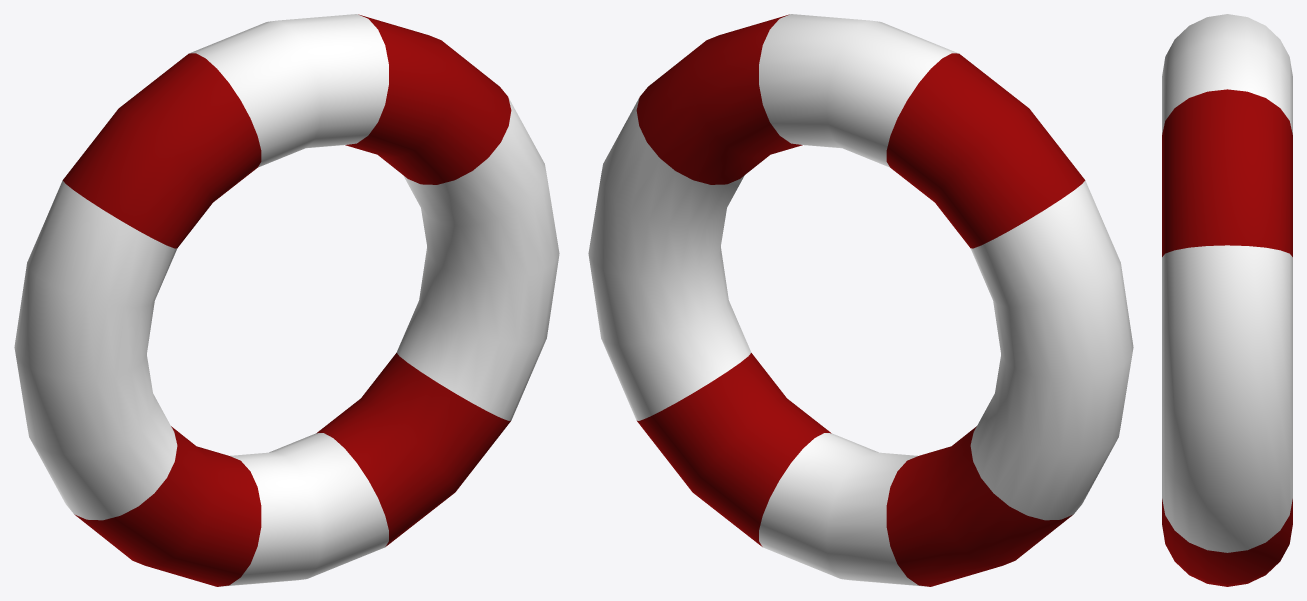
Rendered from TropicalLifePreserver.fbx.
3 renders of one model, left to right at view 1: azimuth 30°, elevation 25°; view 2: azimuth 150°, elevation 25°; view 3: azimuth 270°, elevation 25°, orthographic. The views are drawn at different scales.
Visible parts, largest first — view 1: LifePreserver; view 2: LifePreserver; view 3: LifePreserver.
Boxes of the visible parts, box(x1,y1,x2,y2) form: LifePreserver: box(14, 14, 559, 586); LifePreserver: box(588, 14, 1133, 586); LifePreserver: box(1162, 14, 1292, 586).
Size of the model in its own units: 7.56 by 7.55 by 1.71.
